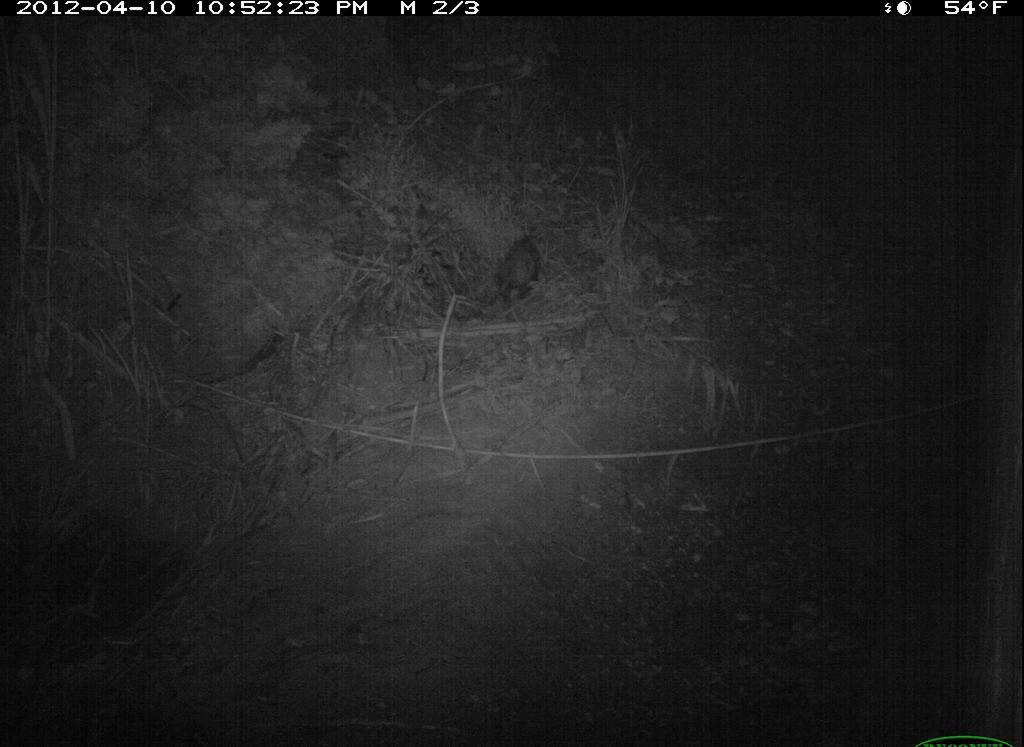opossum: (479, 218, 560, 314)
